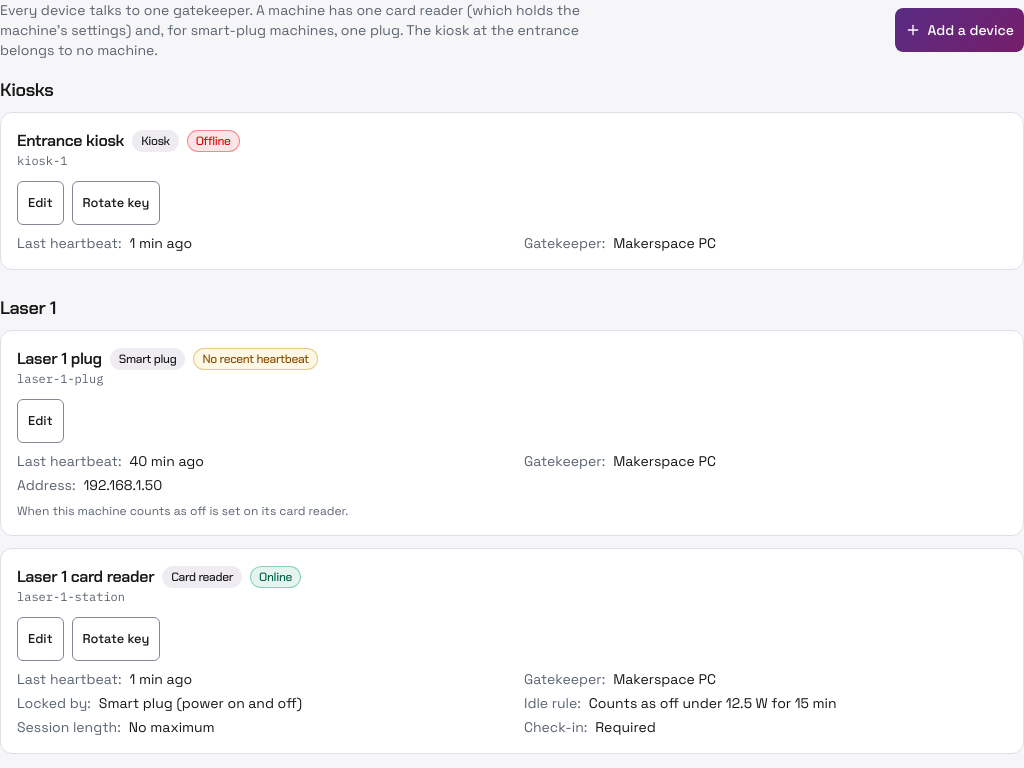
Test case: Devices adding › explains the idle rule in plain words and hides it for other lock methods
The width and height of the screenshot is (1024, 768).
Expected: the heading "Entrance kiosk Kiosk Offline" is shown, [17,130,240,152]
Step 1. Click the button "Add a device" → (960, 30), box [895,8,1023,52]
(page scrolled)
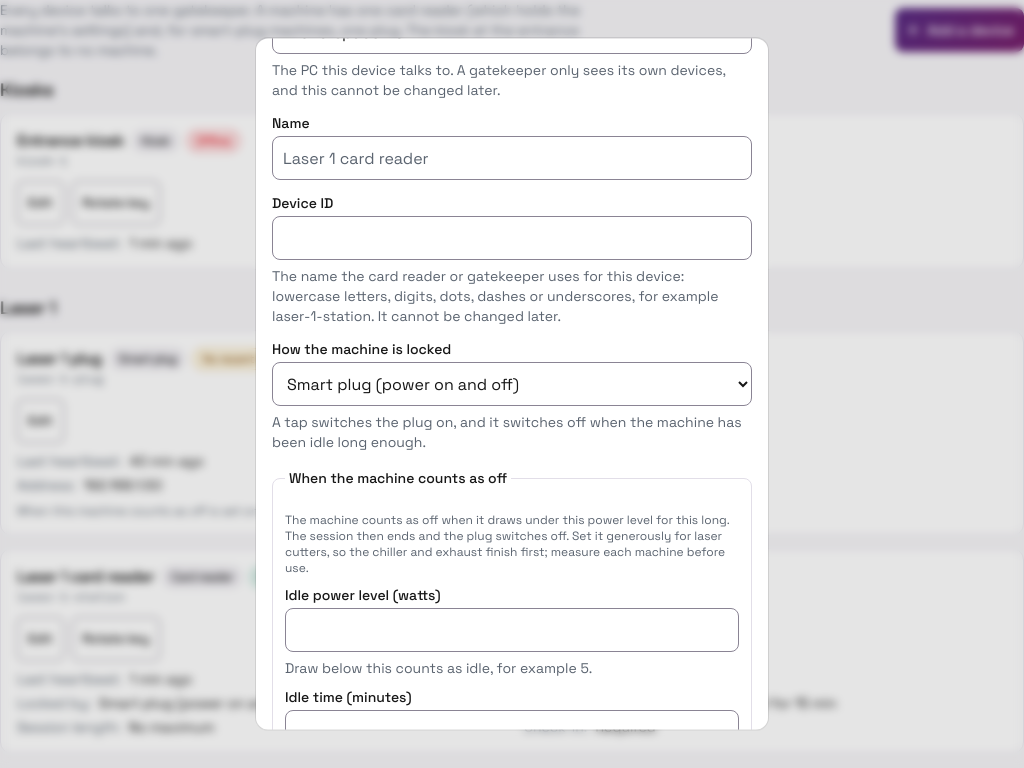
Now the text "set it generously for laser cutters" is shown, box [285,512,729,576]
Step 2. Select "Relay in the start circuit" in the dropdown labelled "How the machine is locked" → (512, 384), box [272,362,752,406]
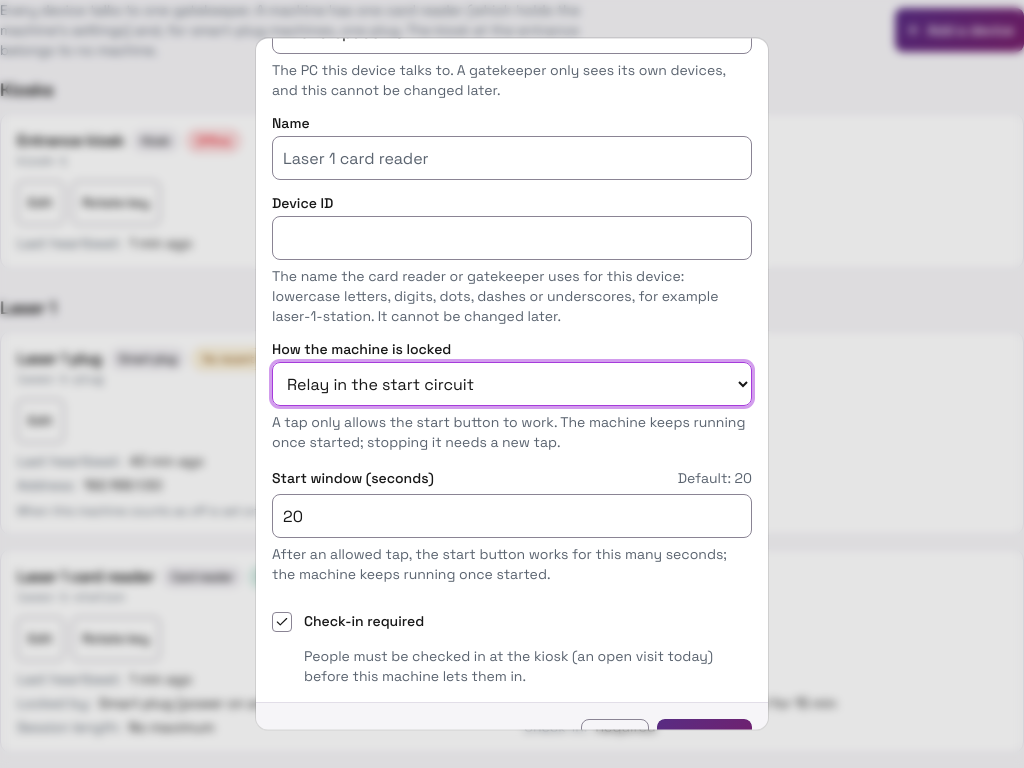
Now the text "Idle power level" is gone
